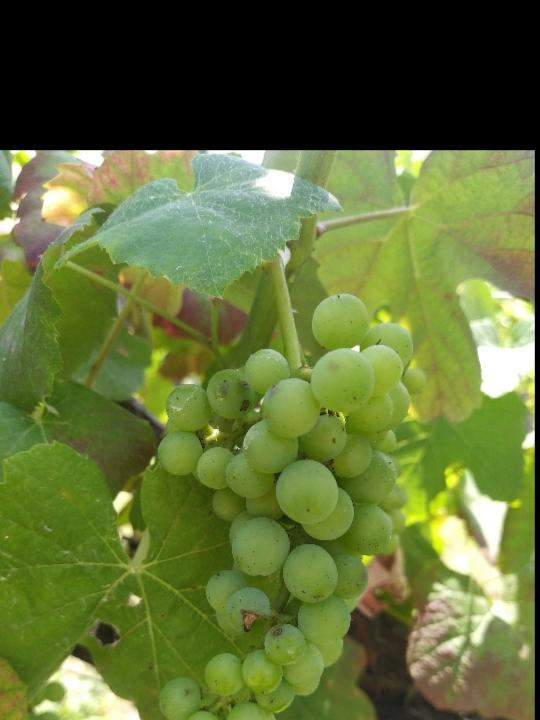grape: (157, 289, 431, 720)
